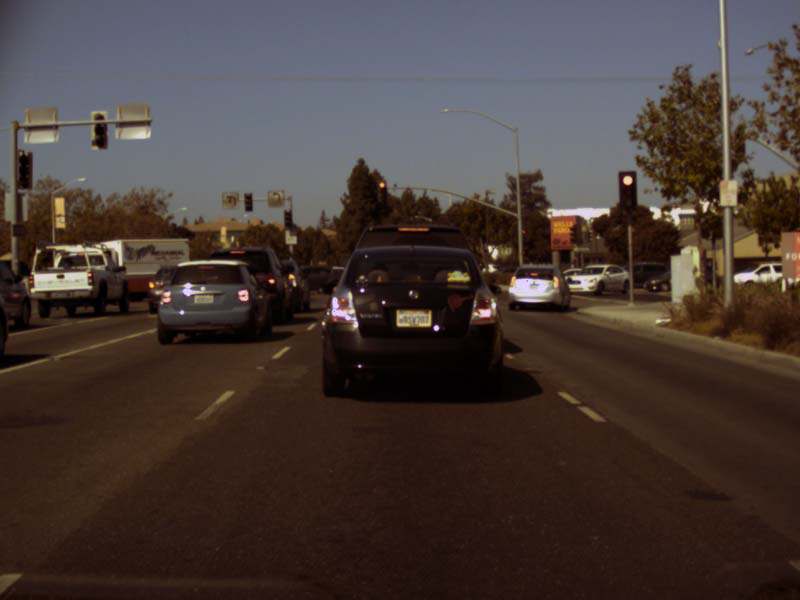Red: (618, 170, 636, 211), (377, 181, 386, 203), (520, 228, 526, 240)
